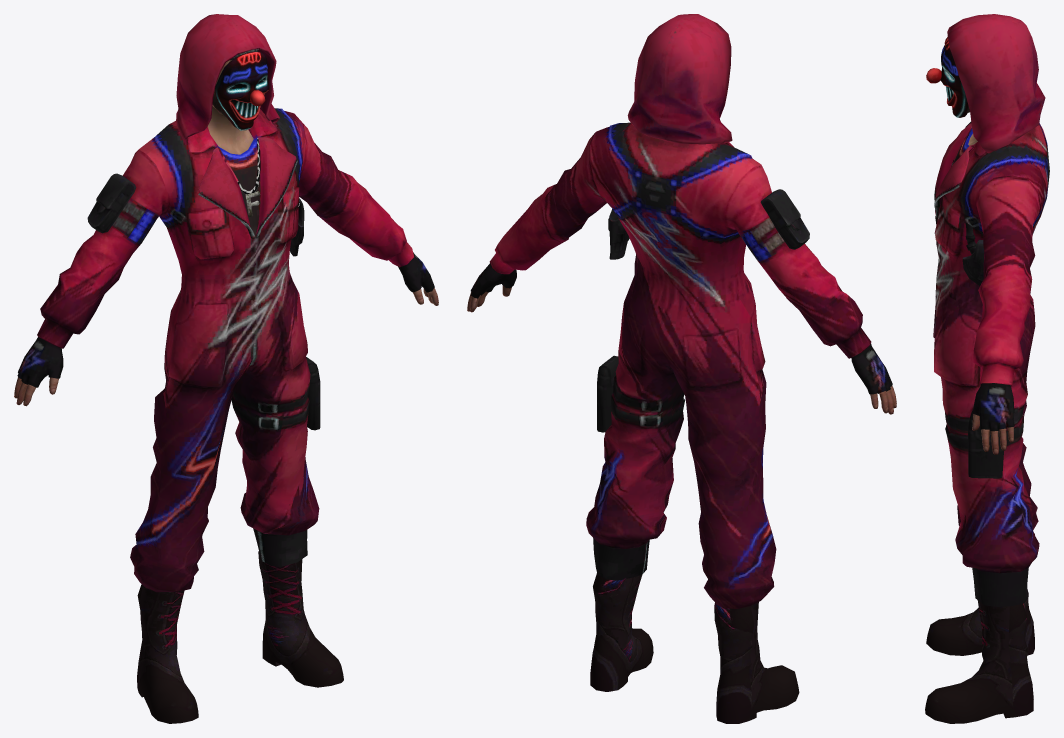
The model's file is criminal.fbx.
3 renders of one model, left to right at view 1: azimuth 30°, elevation 25°; view 2: azimuth 150°, elevation 25°; view 3: azimuth 270°, elevation 25°, orthographic.
Parts seen in each view (by area): view 1: Object_4, Object_3, Object_6, Object_2; view 2: Object_4, Object_3, Object_2; view 3: Object_4, Object_3, Object_6, Object_2.
Part boxes in pixels (x1,y1,x2,y2): Object_4: [17, 14, 434, 592]; Object_3: [137, 551, 343, 723]; Object_6: [214, 51, 269, 130]; Object_2: [14, 60, 438, 406]; Object_4: [470, 14, 892, 608]; Object_3: [590, 573, 799, 723]; Object_2: [467, 285, 896, 414]; Object_4: [933, 14, 1049, 606]; Object_3: [925, 589, 1034, 723]; Object_6: [926, 37, 968, 117]; Object_2: [966, 107, 1013, 454].
Bounding box in the file's own units: 957 × 1459 × 248.
Materials: 5 (5 with a texture image).
